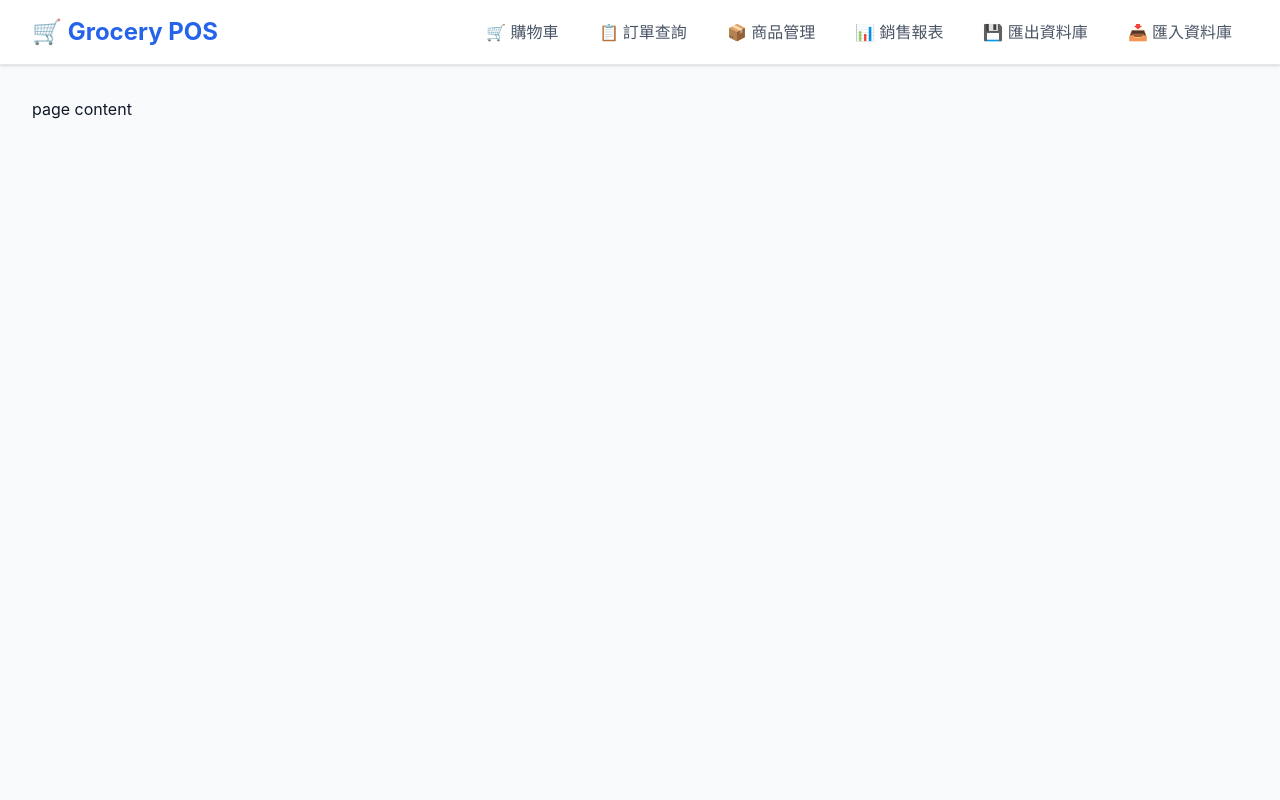
Layout database export confirmation › does not export and closes the dialog when 取消 is clicked
This screenshot has width=1280, height=800.
Click the button "💾 匯出資料庫".
click(1036, 32)  # box [967,12,1104,52]
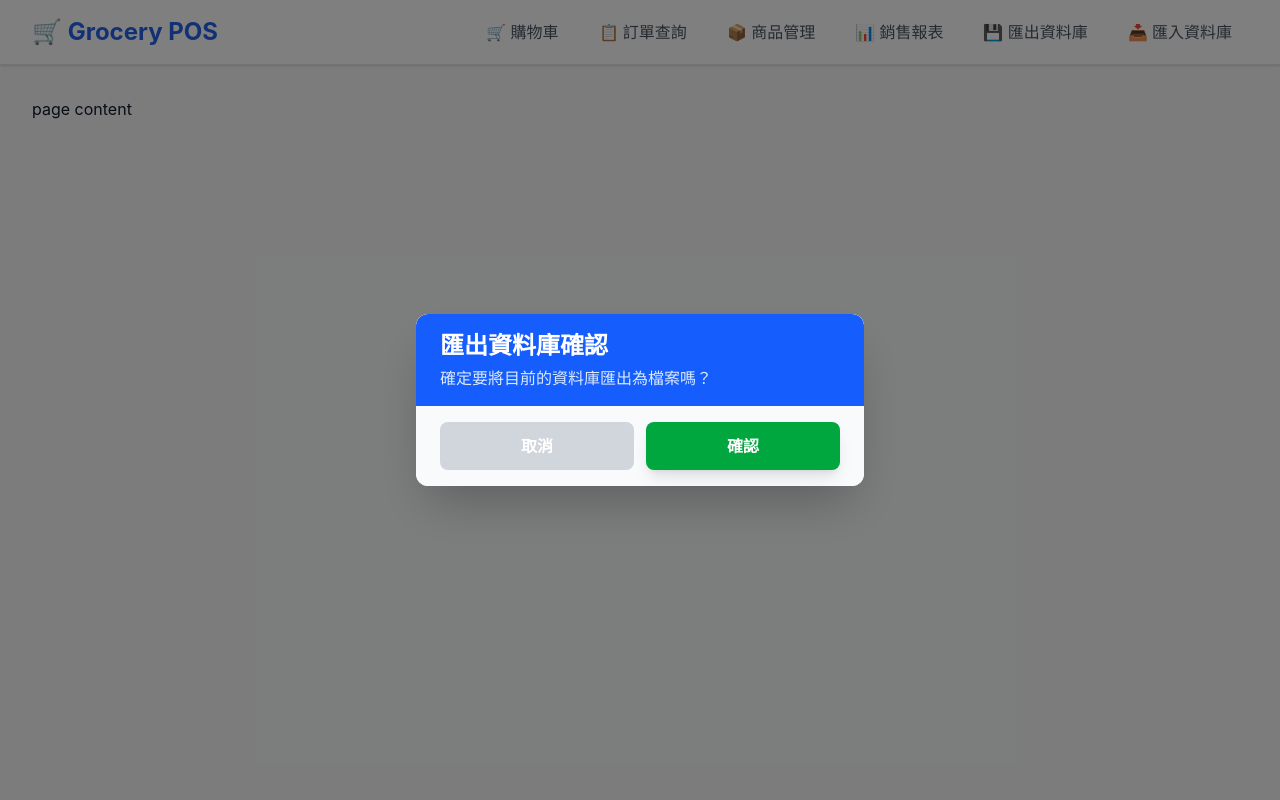
Click the button "取消".
click(537, 446)  # box [440,422,634,470]
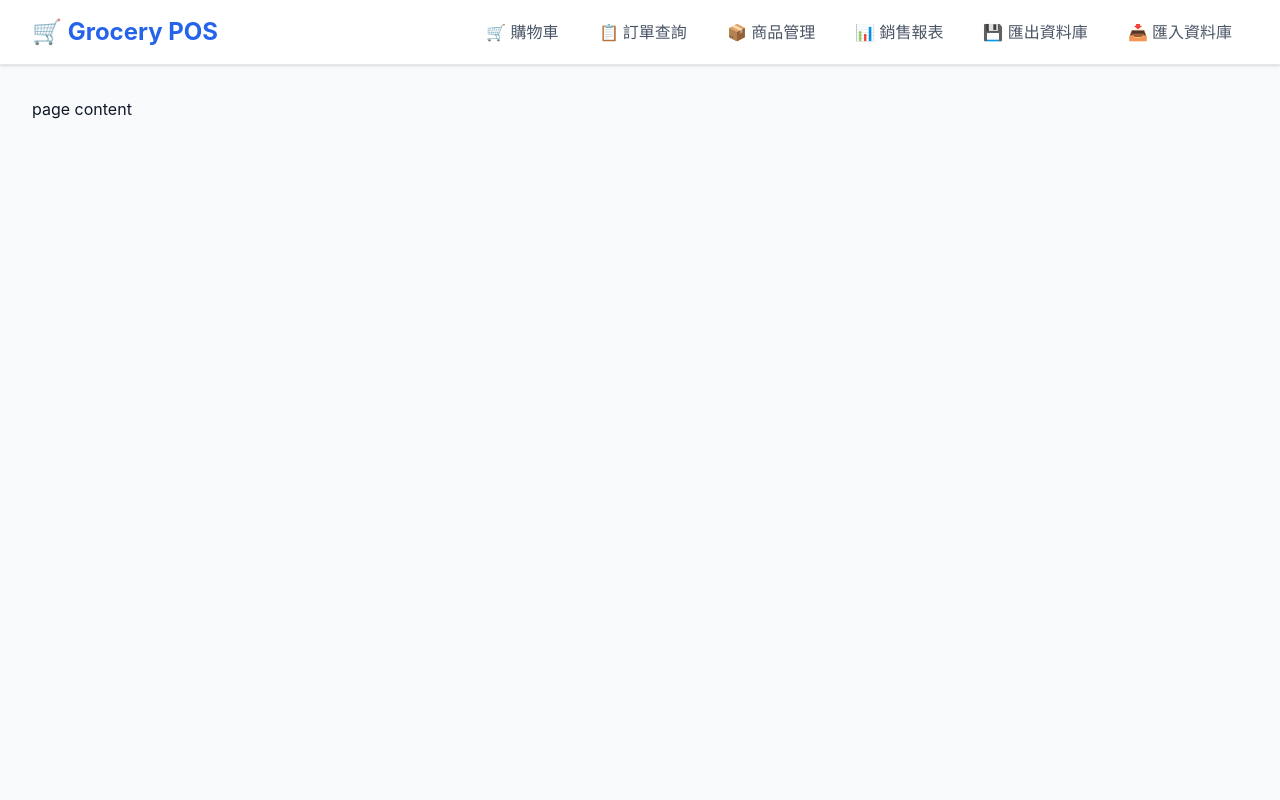
Result: the heading "匯出資料庫確認" is gone
